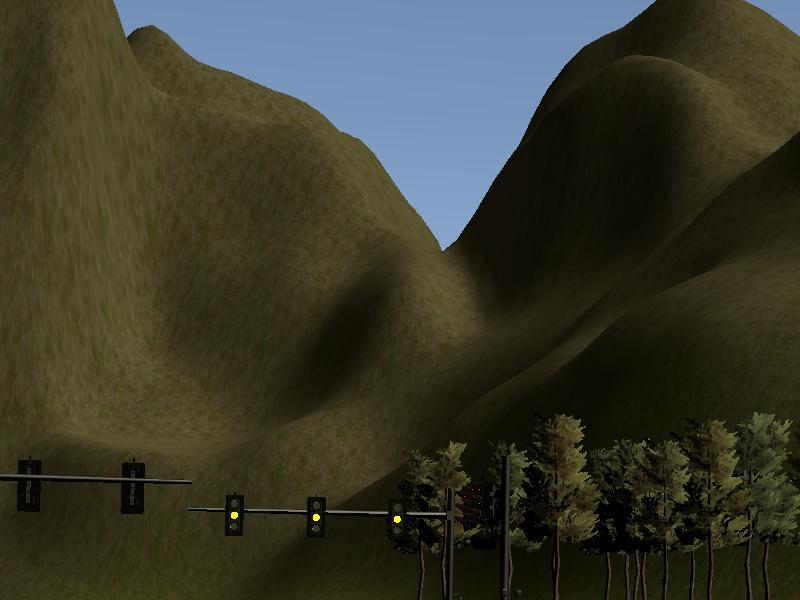Yellow: (224, 494, 244, 536), (306, 497, 326, 539), (388, 499, 407, 541)
